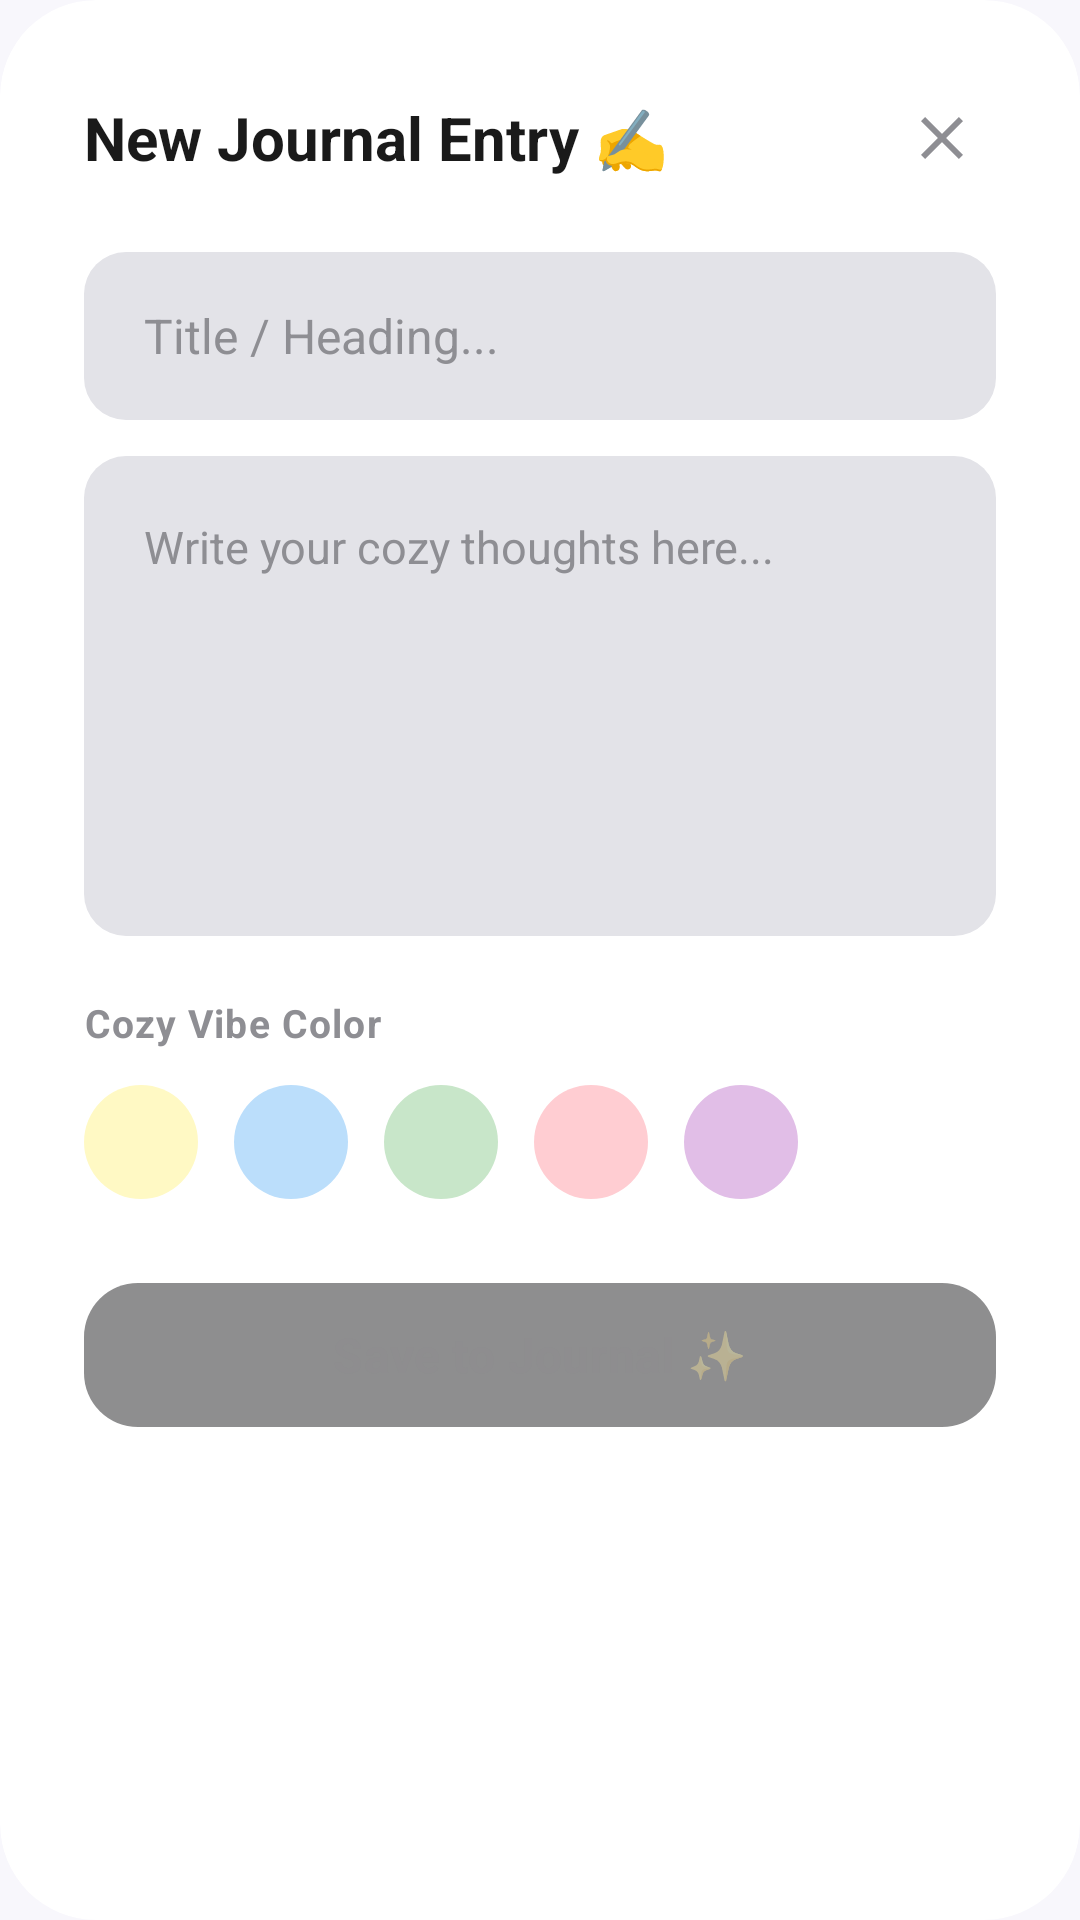

Screen size 1080×1920. Icon name, then its center in pixels as point (x, y):
Close: point (942, 138)
